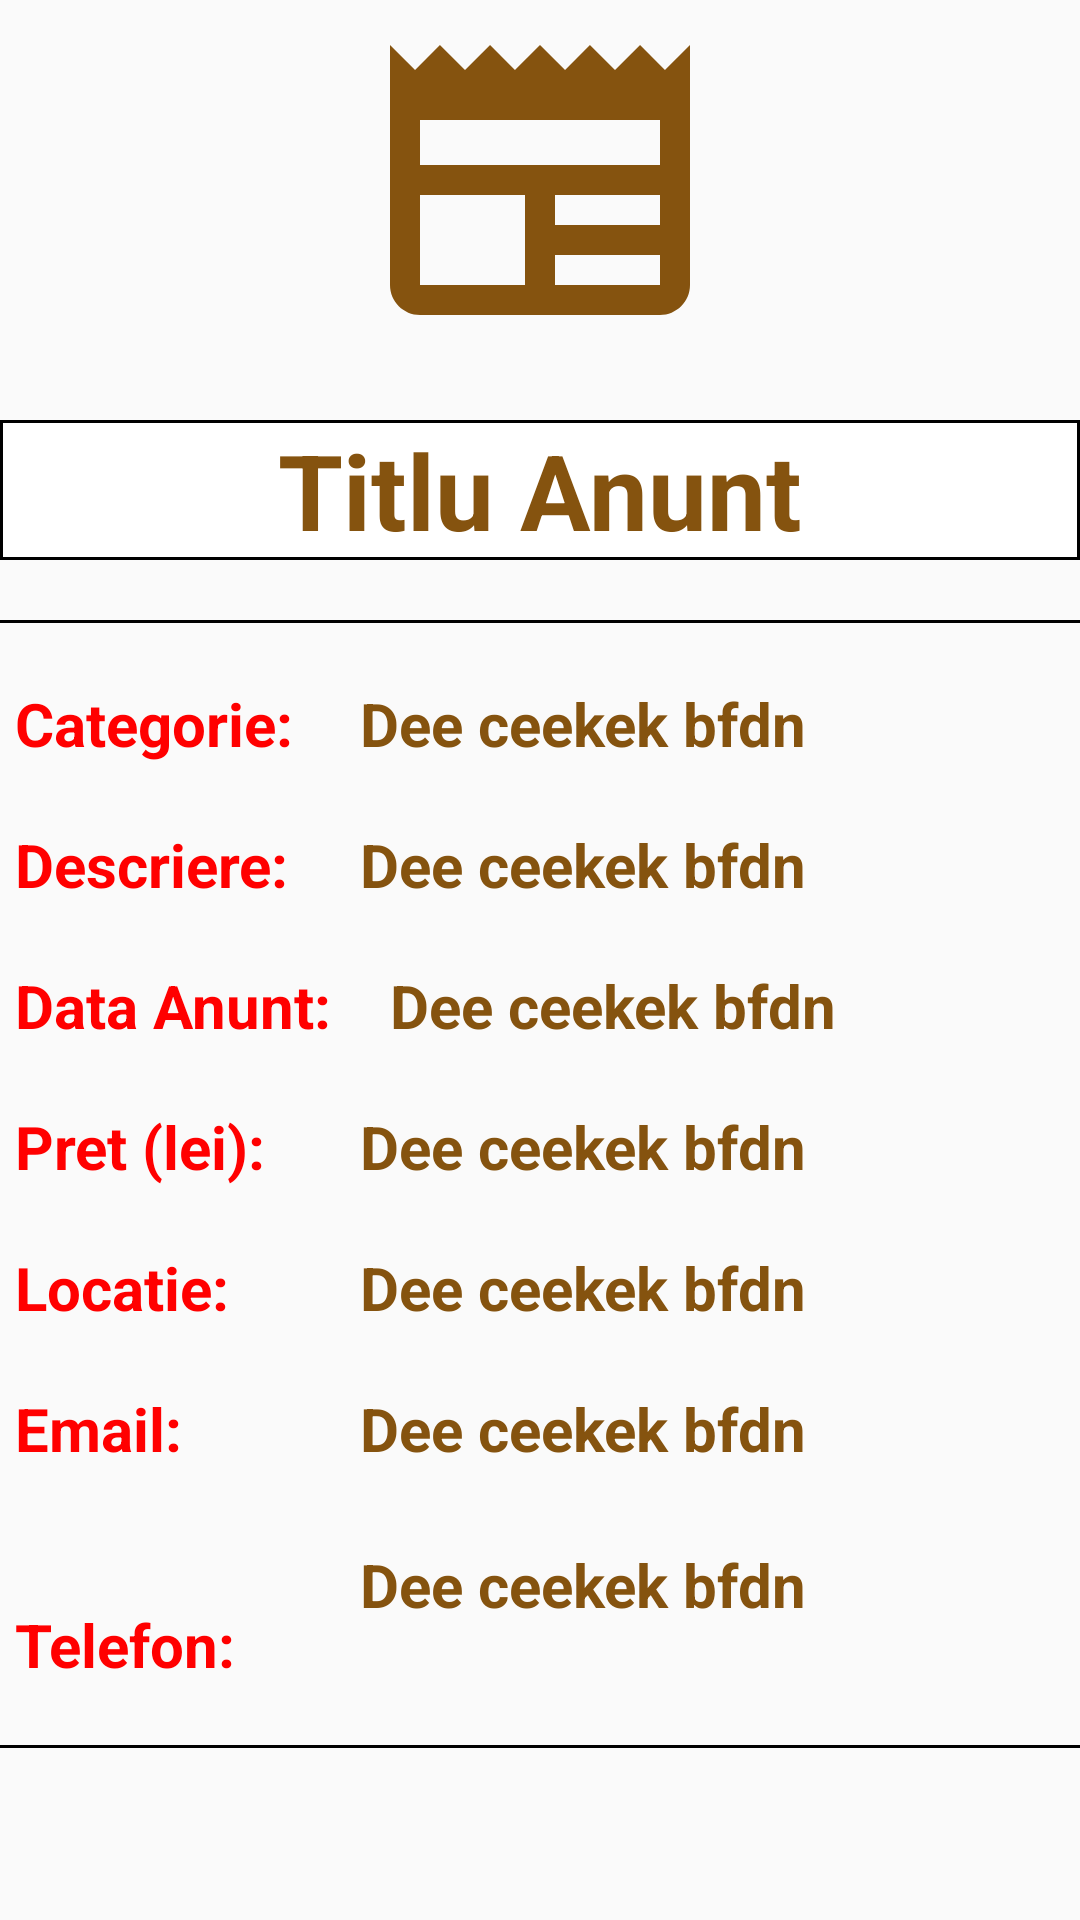

Named icons in this screenshot (1080x1920) and their bounding boxes, (x1, y1, x2, y2):
newspaper: (390, 45, 690, 315)
